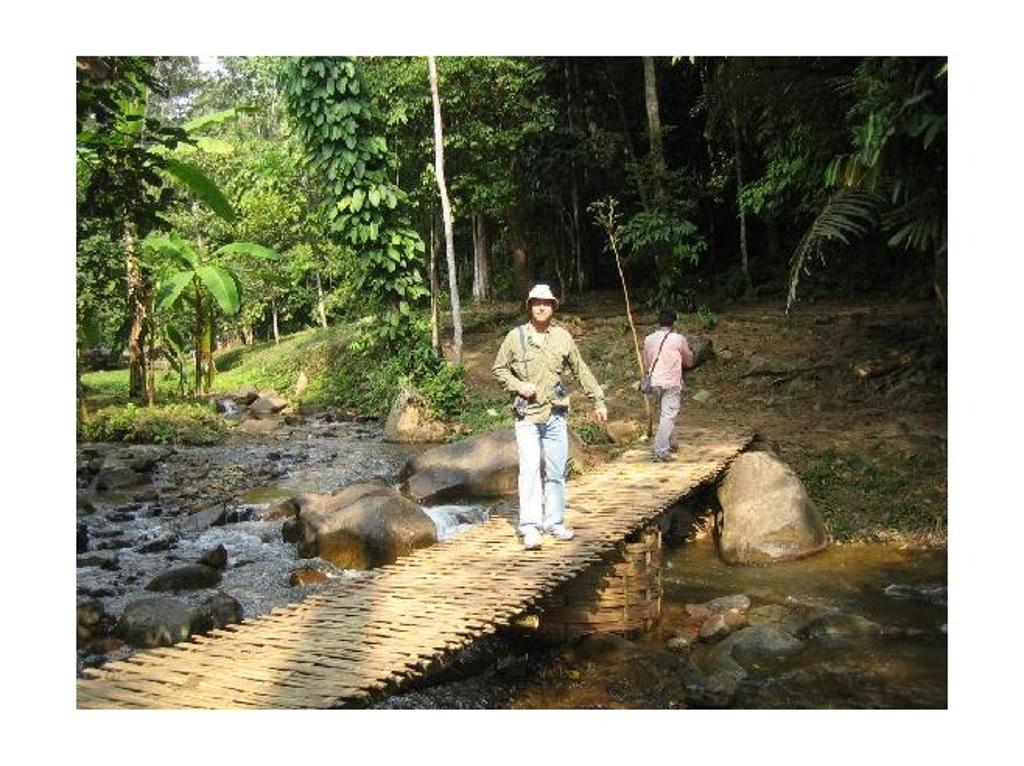face: (530, 294, 552, 321)
